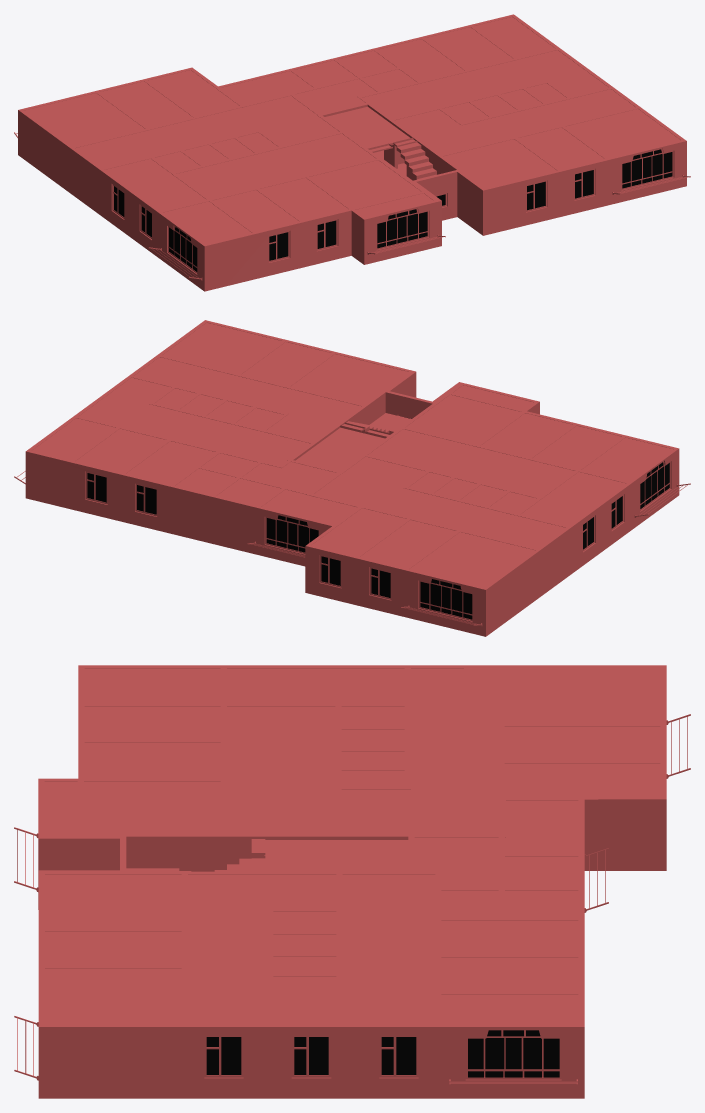
Rendered from SM_house_section_20.fbx.
The picture shows the model from 3 angles, top to bottom: view 1: azimuth 30°, elevation 25°; view 2: azimuth 150°, elevation 25°; view 3: azimuth 270°, elevation 25°; orthographic projection. The views are drawn at different scales.
Parts seen in each view (by area): view 1: Plane_1; view 2: Plane_1; view 3: Plane_1.
Part boxes in pixels (x1,y1,x2,y2): Plane_1: (14,14,690,291); Plane_1: (14,320,690,636); Plane_1: (14,665,690,1098).
Bounding box in the file's own units: 2870 × 250 × 2148.
